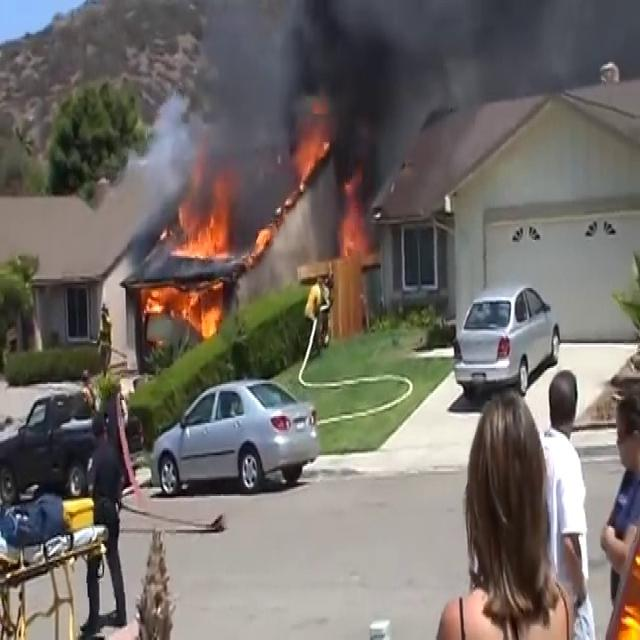Fire: (137, 282, 225, 343), (172, 202, 236, 264), (337, 194, 362, 264)
Smoke: (130, 0, 468, 230)
